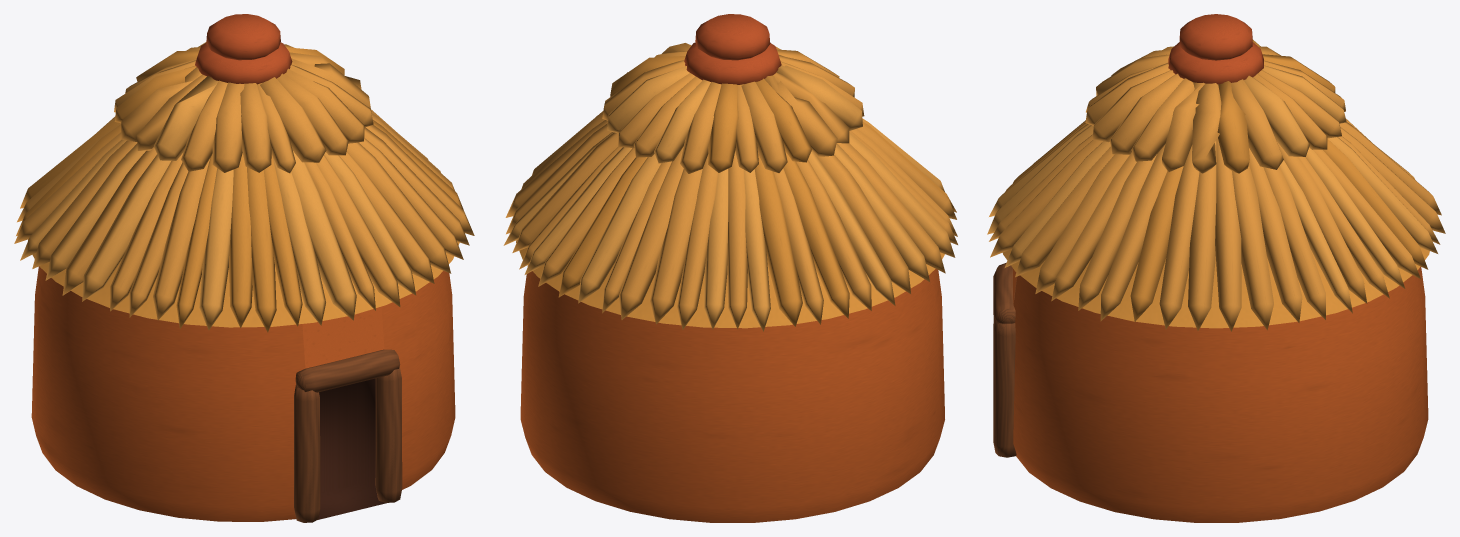
Rendered from hut_v2.glb.
The picture shows the model from 3 angles, left to right: view 1: azimuth 30°, elevation 25°; view 2: azimuth 150°, elevation 25°; view 3: azimuth 270°, elevation 25°; orthographic projection.
Parts seen in each view (by area): view 1: HutV2; view 2: HutV2; view 3: HutV2.
Part boxes in pixels (x1=…): HutV2: x1=14, y1=14, x2=474, y2=522; HutV2: x1=503, y1=14, x2=957, y2=522; HutV2: x1=987, y1=14, x2=1445, y2=522.
Size of the model in its own units: 2.81 by 2.8 by 2.81.
Materials: 1 (1 with a texture image).
